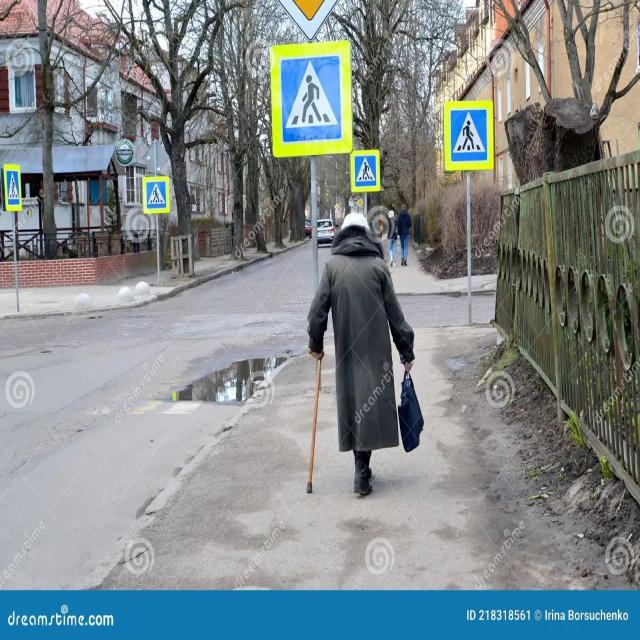idoso em pe: (295, 215, 405, 510)
